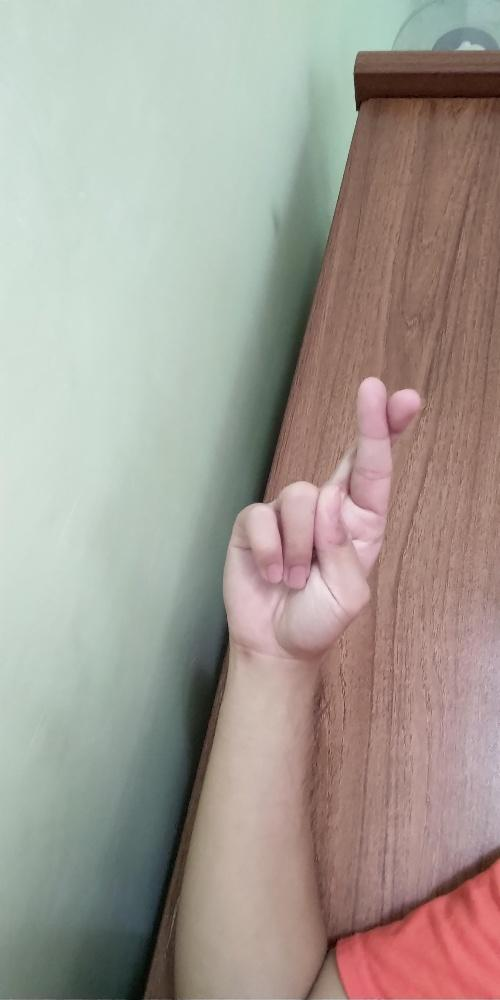r: (218, 372, 419, 658)
